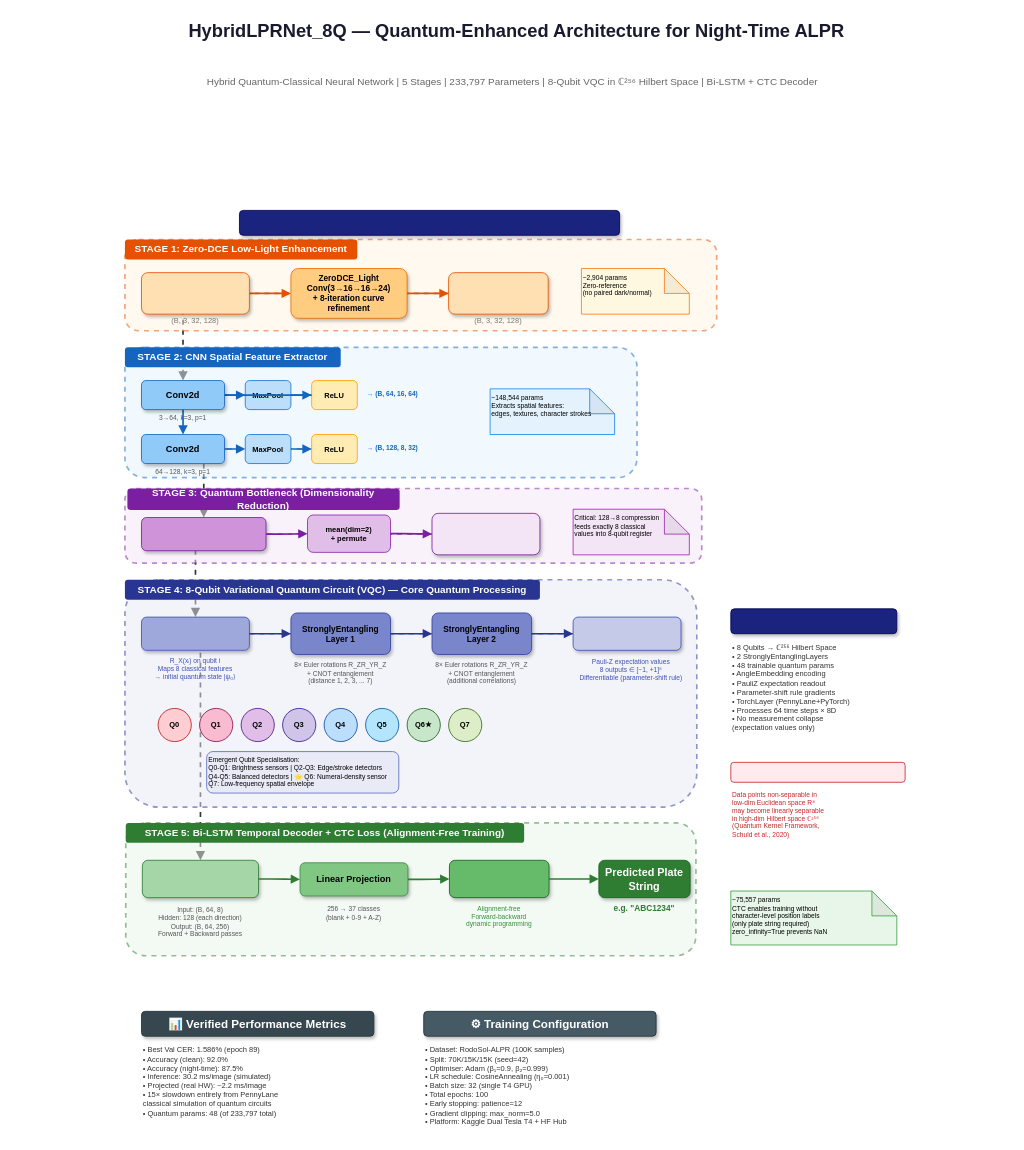
Image size: 1024x1150. Some labels were removed from this diagram. The centre of each missing label's shape, as x and y in pixels:
"(B, T=64, 8) 64 temporal columns × 8 features" belongs at (x=486, y=535).
"AngleEmbedding" belongs at (x=195, y=634).
"Bidirectional LSTM" belongs at (x=201, y=879).
"Conv2d(128→8, 1×1)" belongs at (x=204, y=535).
"CTC Loss + Greedy Decode" belongs at (x=499, y=879).
"Enhanced Image" belongs at (x=498, y=294).
"Input Image (Night-time, low-light)" belongs at (x=195, y=294).
"Quantum Advantage Hypothesis:" belongs at (x=817, y=772).
"⚛ HybridLPRNet_8Q — Quantum-Enhanced Architecture for Night-Time ALPR ⚛" belongs at (x=430, y=223).
"⚛ VQC Specifications ⚛" belongs at (x=814, y=622).
"⟨Zᵢ⟩ Measurement" belongs at (x=627, y=634).
